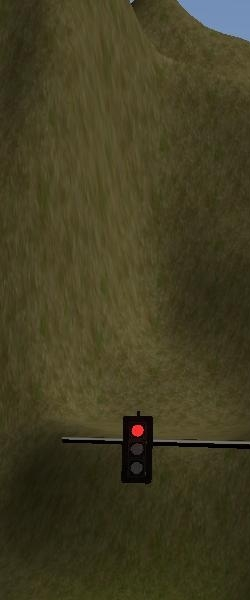Red: (121, 415, 153, 483)
